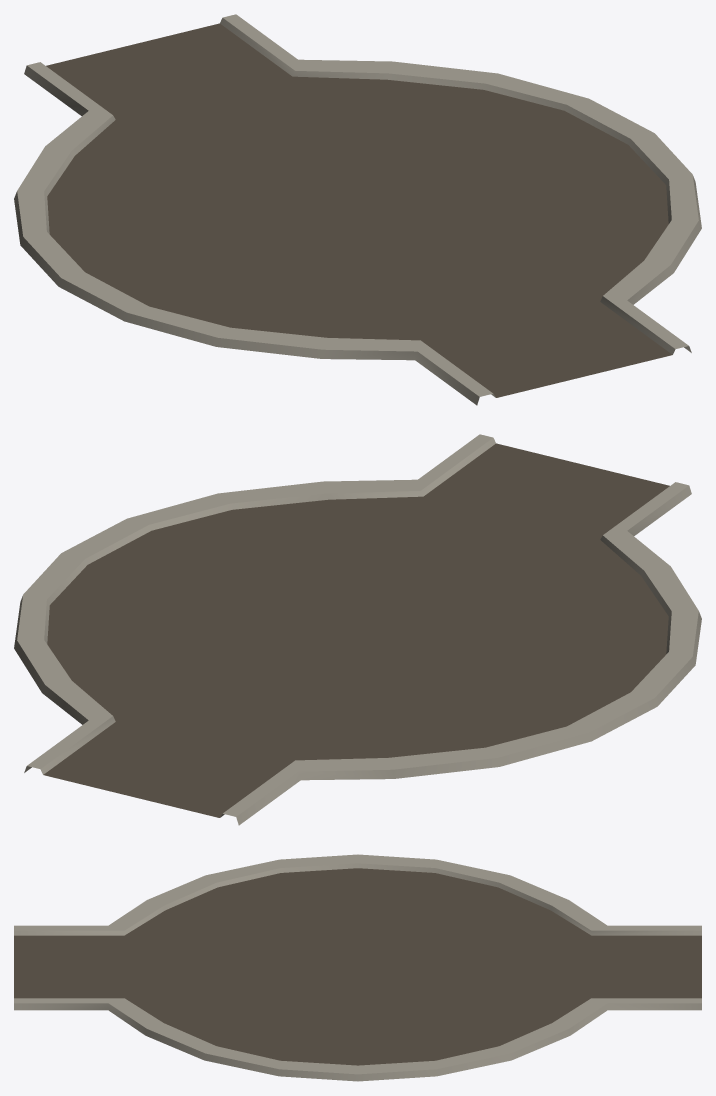
File: ParkRoad_7_B.fbx
The picture shows the model from 3 angles, top to bottom: view 1: azimuth 30°, elevation 25°; view 2: azimuth 150°, elevation 25°; view 3: azimuth 270°, elevation 25°; orthographic projection. The views are drawn at different scales.
Visible parts, largest first — view 1: ParkRoad_7_B; view 2: ParkRoad_7_B; view 3: ParkRoad_7_B.
Part boxes in pixels (<box>): ParkRoad_7_B: <box>14,14,701,405</box>; ParkRoad_7_B: <box>14,434,701,825</box>; ParkRoad_7_B: <box>14,854,701,1081</box>.
Size of the model in its own units: 558 by 7.16 by 731.
